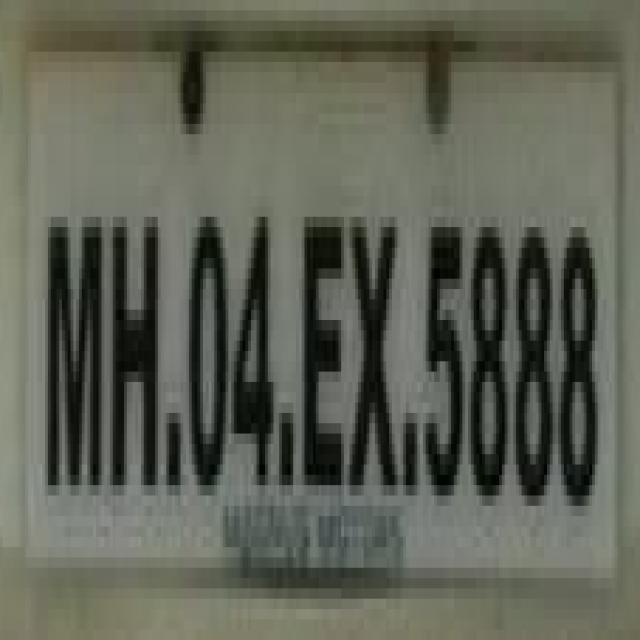license_plate: (22, 0, 640, 557)
